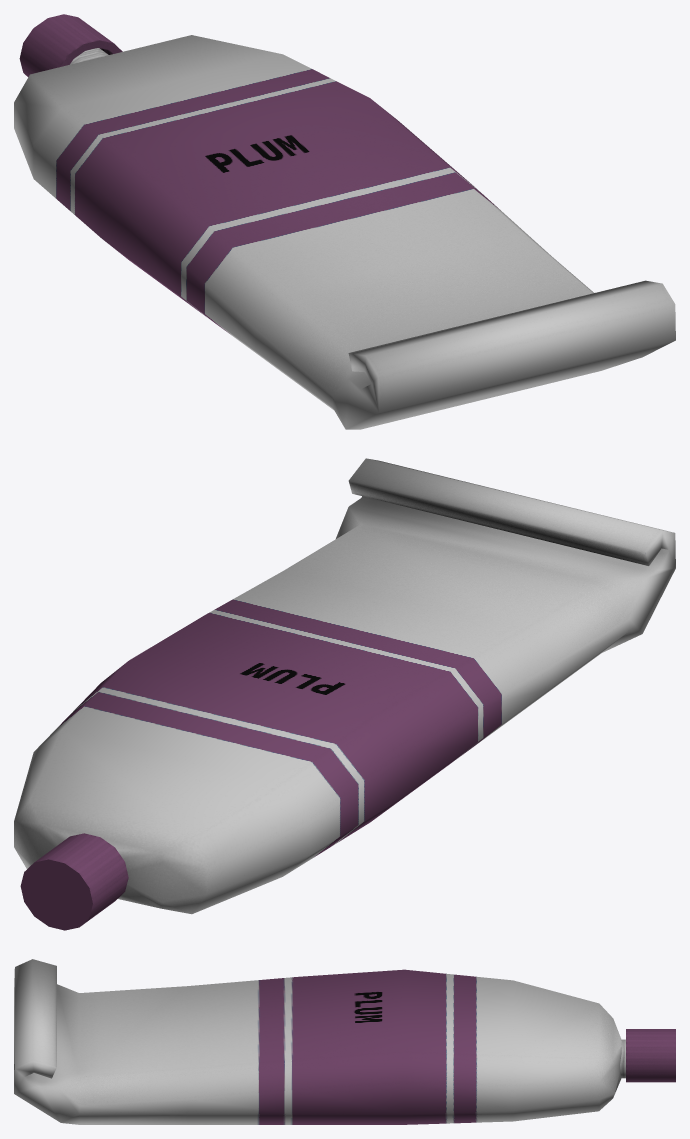
Rendered from paint_06.fbx.
3 views of the same model, one above another, from view 1: azimuth 30°, elevation 25°; view 2: azimuth 150°, elevation 25°; view 3: azimuth 270°, elevation 25° (orthographic). The views are drawn at different scales.
Visible parts, largest first — view 1: paint_06, paint_06.lid; view 2: paint_06, paint_06.lid; view 3: paint_06, paint_06.lid.
Boxes of the visible parts, x1,y1,x2,y2 form: paint_06: (14,35,675,429); paint_06.lid: (19,14,122,76); paint_06: (14,458,675,914); paint_06.lid: (20,833,128,930); paint_06: (14,959,625,1124); paint_06.lid: (626,1029,675,1082).
Bounding box in the file's own units: 11.6 × 3.91 × 31.88.
